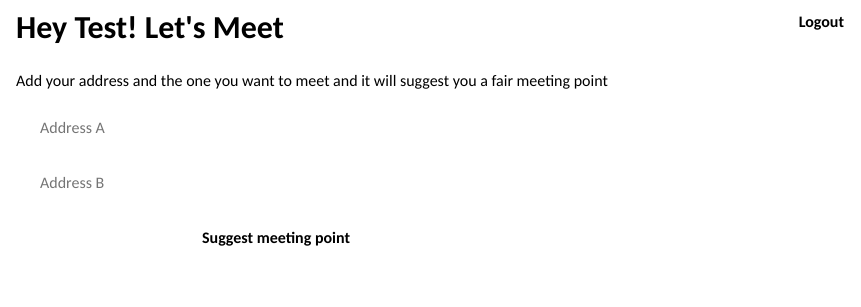
Home › shows error when API fails
Click the button "Suggest meeting point": (276, 238) [16, 216, 536, 259]
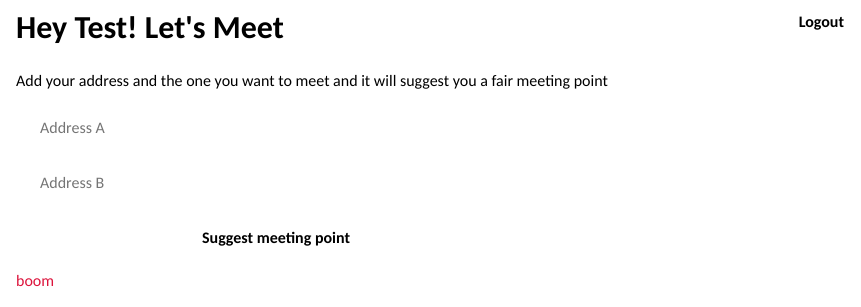
Check: the text "boom" is shown, box [16, 271, 54, 290]
